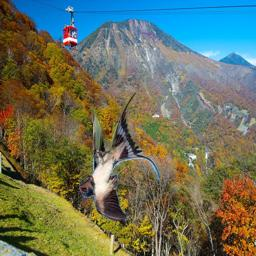Swallow: (79, 91, 160, 221)
